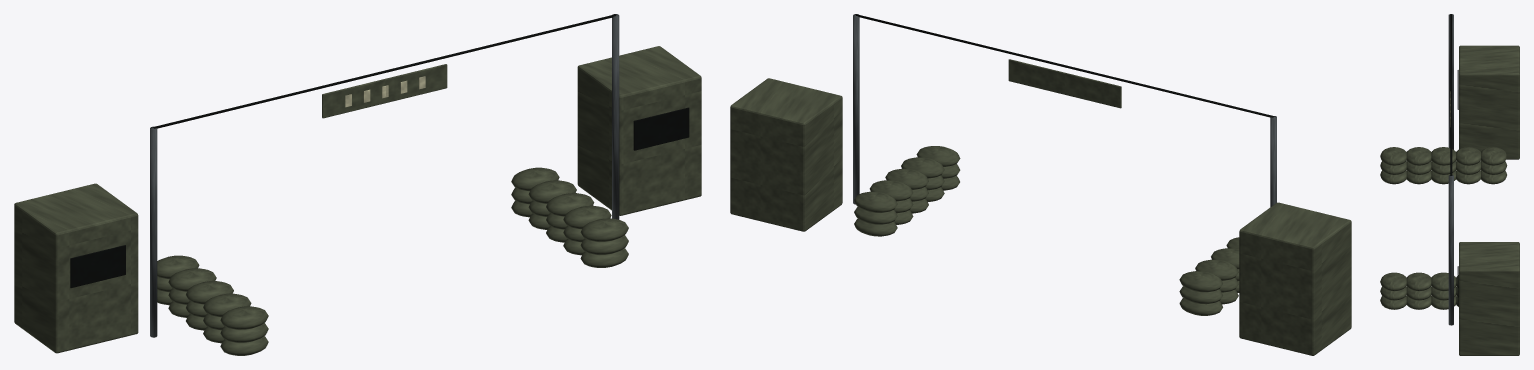
The model's file is checkpoint.glb.
3 renders of one model, left to right at view 1: azimuth 30°, elevation 25°; view 2: azimuth 150°, elevation 25°; view 3: azimuth 270°, elevation 25°, orthographic. The views are drawn at different scales.
Visible parts, largest first — view 1: Guard_shack, Guard_shack.001, Quarantine_notice, Shack_dark_window.001, Shack_dark_window, Tall_barrier_post, Tall_barrier_post.001, Overhead_cable, Sandbag.010, Sandbag.025, Sandbag.011, Sandbag.029 (+10 smaller); view 2: Guard_shack, Guard_shack.001, Quarantine_notice, Tall_barrier_post.001, Overhead_cable, Sandbag.029, Sandbag.014, Tall_barrier_post, Sandbag.013, Sandbag.027, Sandbag.028, Sandbag.026 (+5 smaller); view 3: Guard_shack.001, Guard_shack, Tall_barrier_post.001, Tall_barrier_post, Overhead_cable, Sandbag.010, Sandbag.025, Sandbag.026, Sandbag.011, Sandbag.014, Sandbag.013, Sandbag.012 (+17 smaller).
Boxes of the visible parts, x1,y1,x2,y2 form: Guard_shack: (14,183,138,353); Guard_shack.001: (577,46,701,215); Quarantine_notice: (322,64,447,118); Shack_dark_window.001: (633,107,689,150); Shack_dark_window: (70,245,125,287); Tall_barrier_post: (150,126,157,337); Tall_barrier_post.001: (612,14,619,219); Overhead_cable: (153,14,615,128); Sandbag.010: (220,306,268,329); Sandbag.025: (580,218,628,241); Sandbag.011: (203,293,251,317); Sandbag.029: (511,167,559,191); Guard_shack: (1239,202,1351,355); Guard_shack.001: (730,78,842,231); Quarantine_notice: (1008,59,1121,108); Tall_barrier_post.001: (853,14,859,204); Overhead_cable: (856,14,1274,117); Sandbag.029: (854,191,897,212); Sandbag.014: (1179,271,1222,292); Tall_barrier_post: (1270,116,1276,206); Sandbag.013: (1195,259,1238,280); Sandbag.027: (885,168,928,189); Sandbag.028: (869,180,913,201); Sandbag.026: (901,157,944,178); Guard_shack.001: (1459,242,1519,355); Guard_shack: (1459,45,1519,159); Tall_barrier_post.001: (1448,175,1453,325); Tall_barrier_post: (1448,14,1453,149); Overhead_cable: (1450,14,1452,175); Sandbag.010: (1380,147,1406,165); Sandbag.025: (1380,272,1406,291); Sandbag.026: (1406,272,1431,291); Sandbag.011: (1406,147,1431,165); Sandbag.014: (1481,147,1507,165); Sandbag.013: (1456,147,1480,165); Sandbag.012: (1431,147,1455,165).
Bounding box in the file's own units: 14 × 4.33 × 3.67.
4 materials, 4 textured.
